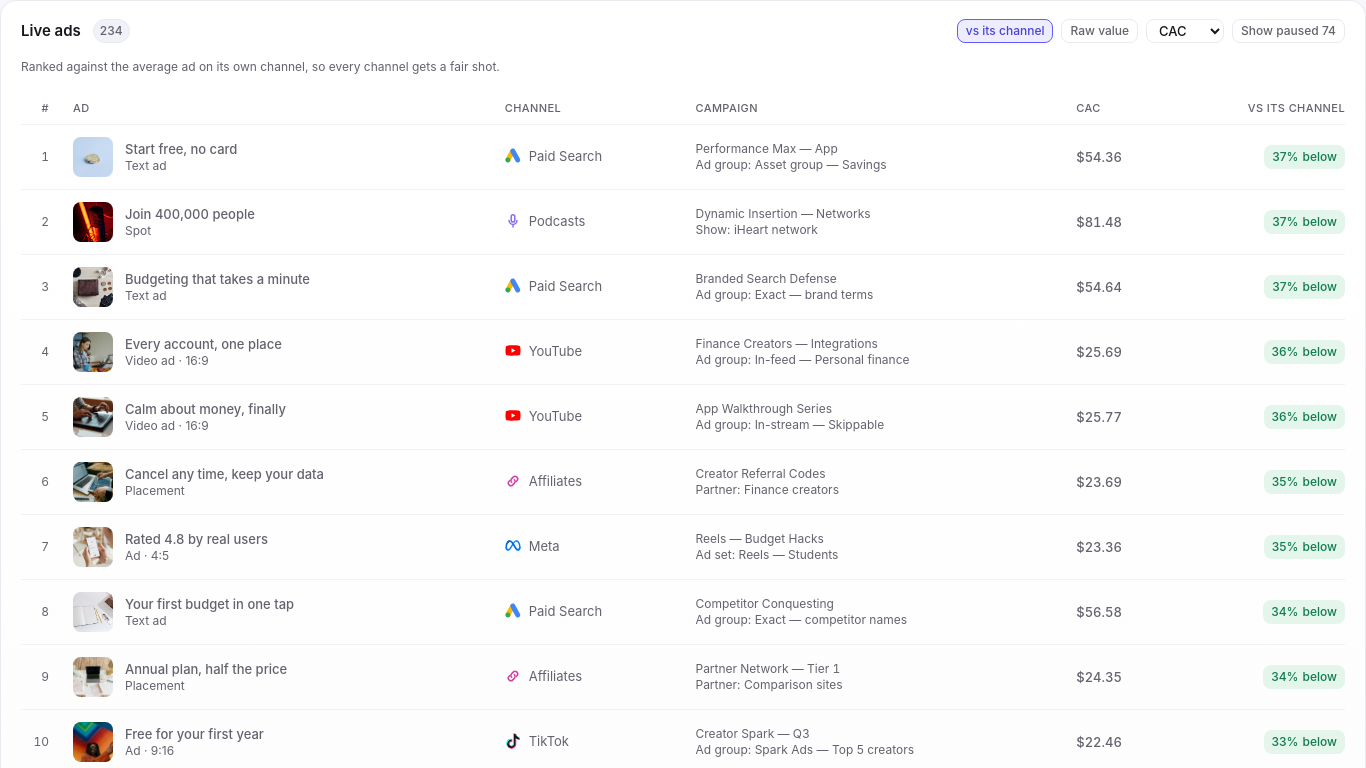
Test: Ads renders the ranking › switching to Raw value reorders the table and drops the explanation
Click the button "Raw value": [1100, 31] box [1070, 23, 1129, 39]
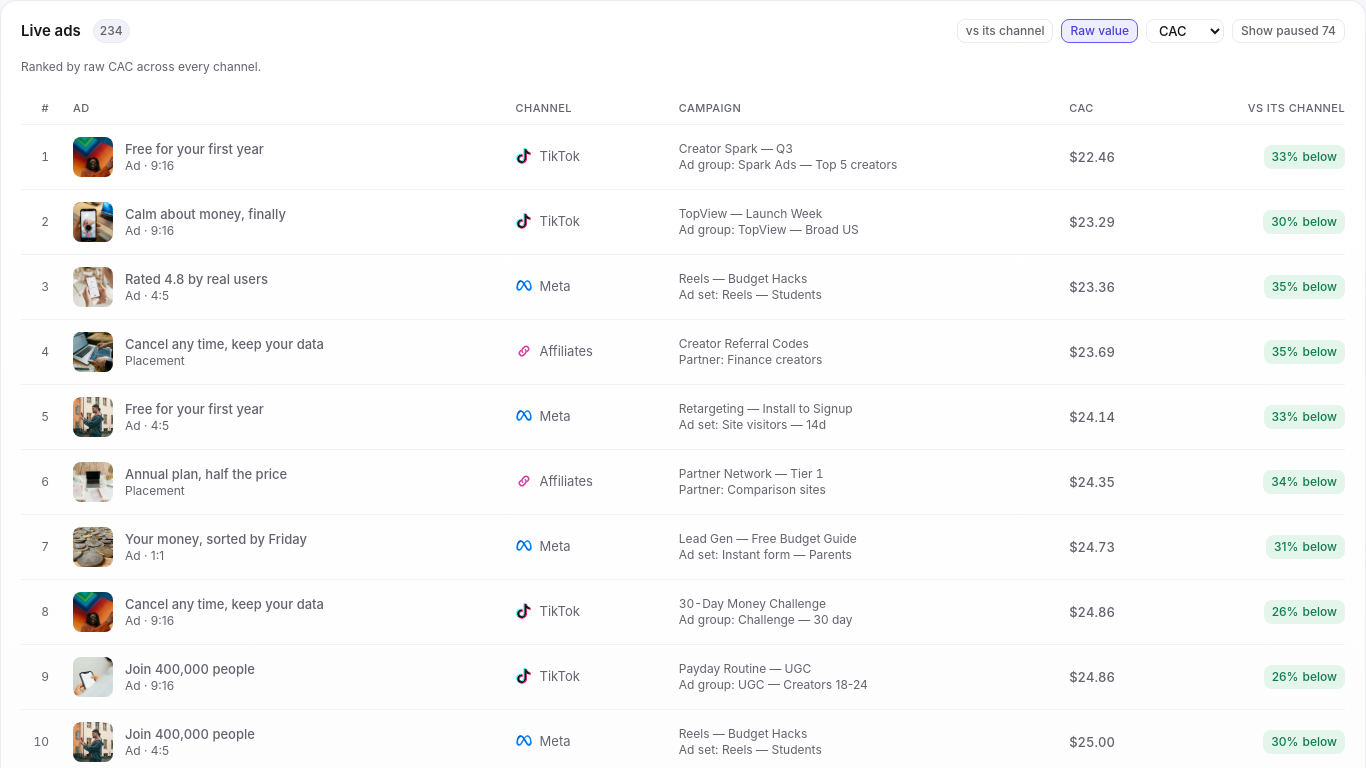
Now the text "against the average ad on its own channel" is gone
